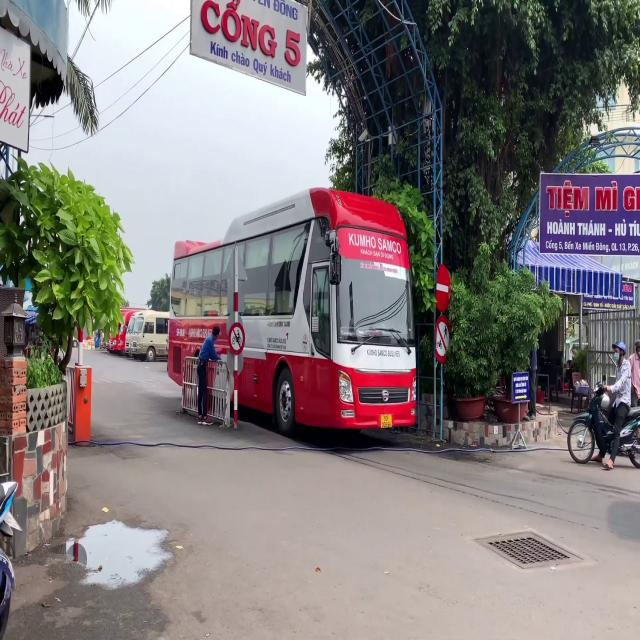bien_vang: (381, 413, 394, 429)
